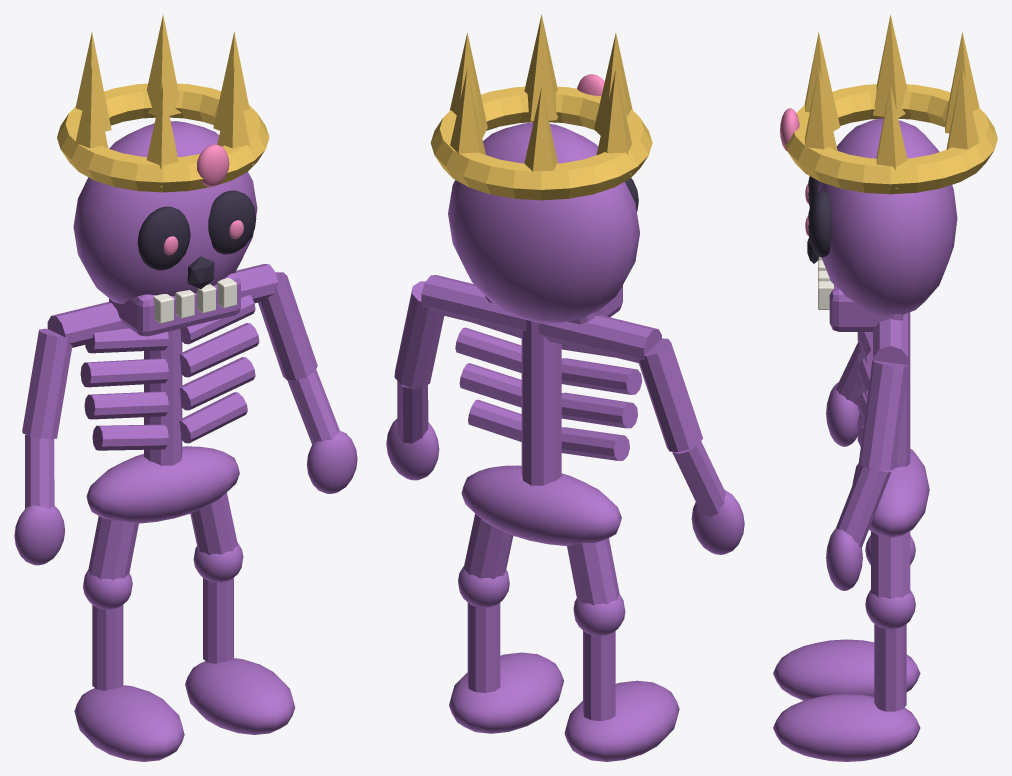
Rendered from skeleton-boss.glb.
3 views of the same model, side by side, from view 1: azimuth 30°, elevation 25°; view 2: azimuth 150°, elevation 25°; view 3: azimuth 270°, elevation 25° (orthographic). The views are drawn at different scales.
Parts seen in each view (by area): view 1: skeleton-boss; view 2: skeleton-boss; view 3: skeleton-boss.
Part boxes in pixels (x1,y1,x2,y2): skeleton-boss: (14, 14, 357, 761); skeleton-boss: (386, 14, 744, 761); skeleton-boss: (773, 14, 997, 761).
Size of the model in its own units: 1.2 by 2.27 by 0.6832.
